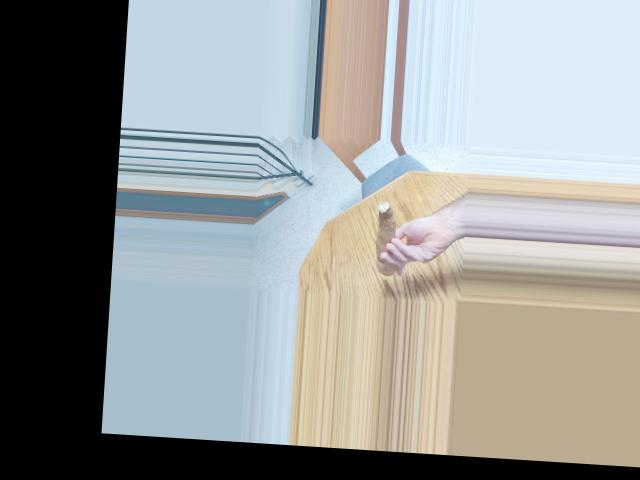sweet_potato: (376, 199, 395, 263)
